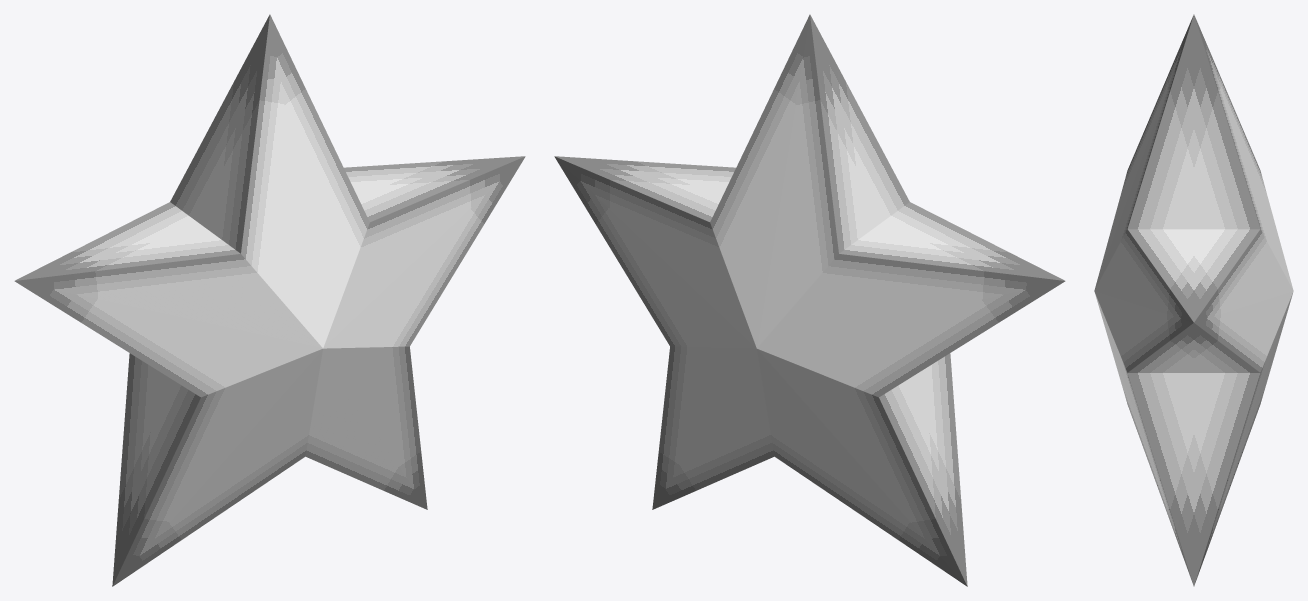
File: SFXobjmark2.obj
3 renders of one model, left to right at view 1: azimuth 30°, elevation 25°; view 2: azimuth 150°, elevation 25°; view 3: azimuth 270°, elevation 25°, orthographic. The views are drawn at different scales.
Parts seen in each view (by area): view 1: Node 0; view 2: Node 0; view 3: Node 0.
Boxes of the visible parts, bbox=[...] form: Node 0: bbox=[14, 14, 525, 586]; Node 0: bbox=[554, 14, 1065, 586]; Node 0: bbox=[1094, 14, 1293, 586].
Bounding box in the file's own units: 5 × 4.99 × 1.8.
Materials: 1 (1 with a texture image).
